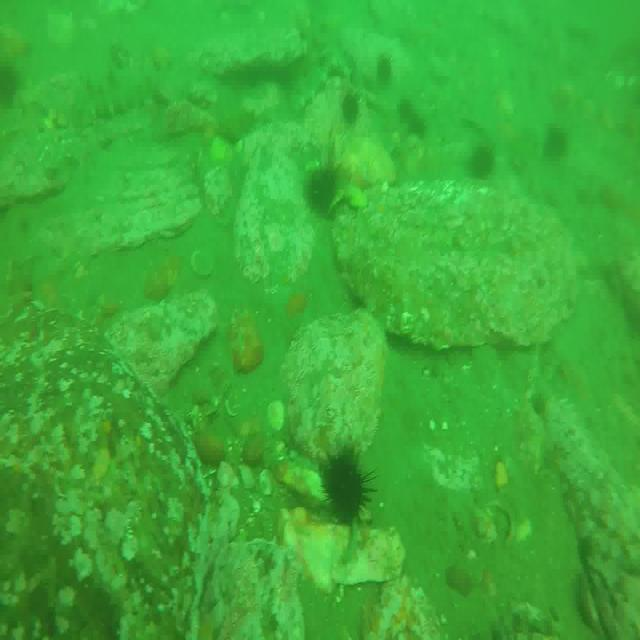echinus: (324, 444, 364, 524), (310, 159, 334, 217), (547, 125, 573, 164), (473, 139, 494, 185), (401, 95, 425, 134), (341, 95, 364, 129), (378, 54, 394, 86)
holothurian: (90, 66, 161, 118)
scallop: (192, 245, 217, 281), (346, 176, 368, 212), (266, 399, 286, 437), (258, 469, 276, 502)
